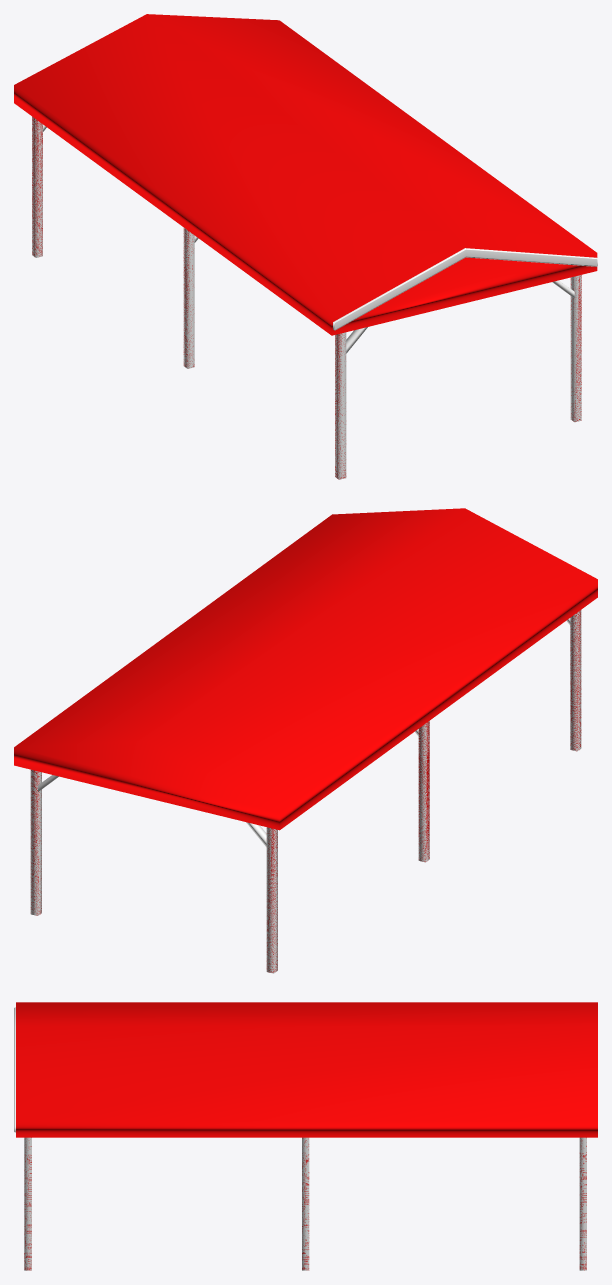
The model's file is carport_01.fbx.
The picture shows the model from 3 angles, top to bottom: view 1: azimuth 30°, elevation 25°; view 2: azimuth 150°, elevation 25°; view 3: azimuth 270°, elevation 25°; orthographic projection. The views are drawn at different scales.
Parts seen in each view (by area): view 1: colmesh, carport_01; view 2: colmesh, carport_01; view 3: colmesh, carport_01.
Part boxes in pixels (x1=…): colmesh: x1=14, y1=14, x2=597, y2=479; carport_01: x1=32, y1=116, x2=597, y2=479; colmesh: x1=14, y1=508, x2=597, y2=972; carport_01: x1=30, y1=610, x2=581, y2=973; colmesh: x1=16, y1=1002, x2=597, y2=1270; carport_01: x1=14, y1=1007, x2=586, y2=1270.
Size of the model in its own units: 503 by 375 by 1046.
